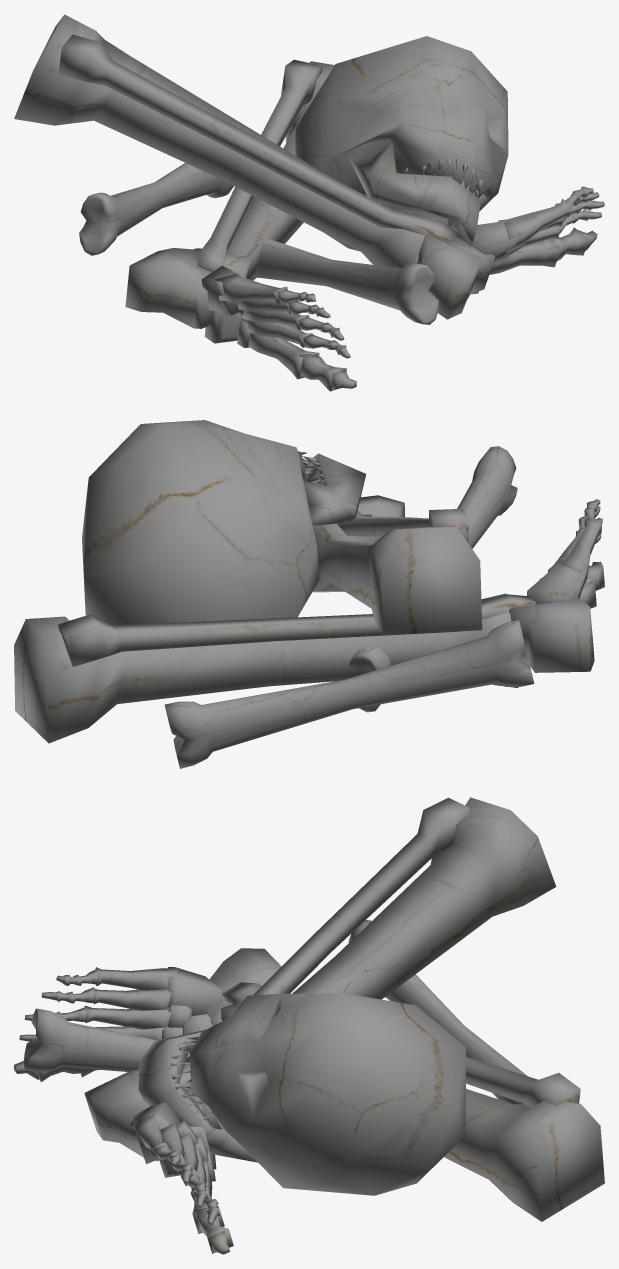
Rendered from Dungeon_BonePile_2.glb.
The picture shows the model from 3 angles, top to bottom: view 1: azimuth 30°, elevation 25°; view 2: azimuth 150°, elevation 25°; view 3: azimuth 270°, elevation 25°; orthographic projection. The views are drawn at different scales.
Visible parts, largest first — view 1: Dungeon_BonePile_2; view 2: Dungeon_BonePile_2; view 3: Dungeon_BonePile_2.
Boxes of the visible parts, x1,y1,x2,y2 form: Dungeon_BonePile_2: (14, 14, 604, 391); Dungeon_BonePile_2: (14, 420, 604, 768); Dungeon_BonePile_2: (14, 797, 604, 1254).
Bounding box in the file's own units: 0.6875 × 0.3419 × 0.718.
Materials: 1 (1 with a texture image).
